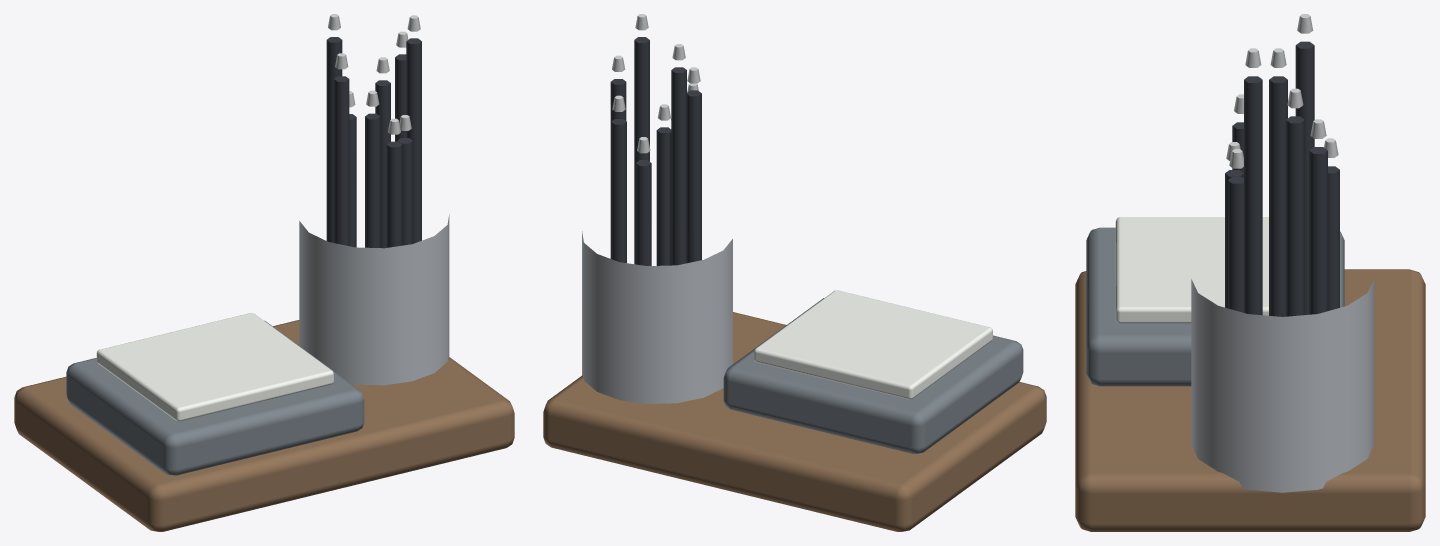
File: desk_organizer02.glb
The picture shows the model from 3 angles, left to right: view 1: azimuth 30°, elevation 25°; view 2: azimuth 150°, elevation 25°; view 3: azimuth 270°, elevation 25°; orthographic projection. The views are drawn at different scales.
Parts seen in each view (by area): view 1: base, pen_cup, tray, note_stack, pens, nibs; view 2: base, pen_cup, tray, note_stack, pens, nibs; view 3: base, pen_cup, pens, note_stack, tray, nibs.
Boxes of the visible parts, bbox=[...] form: base: bbox=[14, 320, 514, 531]; pen_cup: bbox=[299, 214, 449, 385]; tray: bbox=[66, 320, 364, 475]; note_stack: bbox=[96, 313, 333, 421]; pens: bbox=[326, 37, 421, 248]; nibs: bbox=[328, 14, 420, 134]; base: bbox=[543, 312, 1046, 531]; pen_cup: bbox=[582, 231, 732, 403]; tray: bbox=[723, 298, 1023, 453]; note_stack: bbox=[754, 290, 992, 399]; pens: bbox=[610, 37, 701, 265]; nibs: bbox=[612, 14, 700, 153]; base: bbox=[1075, 269, 1425, 531]; pen_cup: bbox=[1191, 279, 1374, 492]; pens: bbox=[1225, 41, 1339, 316]; note_stack: bbox=[1115, 217, 1268, 323]; tray: bbox=[1086, 227, 1344, 386]; nibs: bbox=[1226, 14, 1338, 168].
Bounding box in the file's own units: 0.193 × 0.192 × 0.13.
